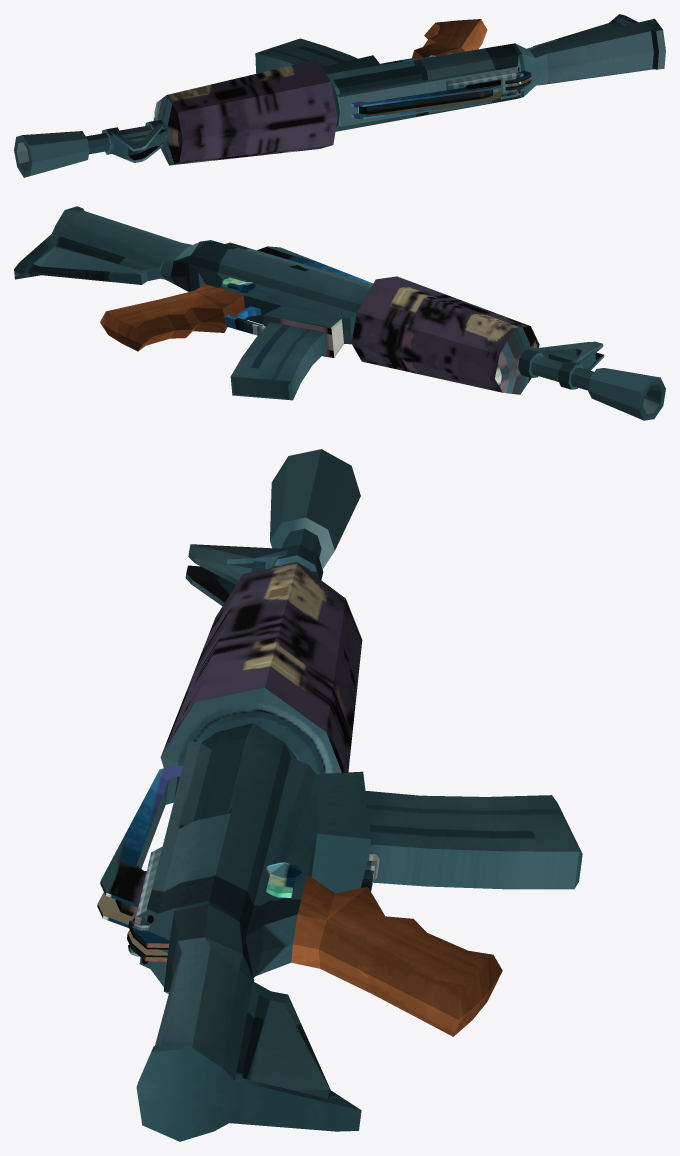
The model's file is Gun6.FBX.
3 views of the same model, one above another, from view 1: azimuth 30°, elevation 25°; view 2: azimuth 150°, elevation 25°; view 3: azimuth 270°, elevation 25° (orthographic). The views are drawn at different scales.
Visible parts, largest first — view 1: gun6; view 2: gun6; view 3: gun6.
Part boxes in pixels (left/top/right/bottom): gun6: left=14, top=14, right=665, bottom=177; gun6: left=14, top=206, right=665, bottom=420; gun6: left=97, top=449, right=582, bottom=1141.
Bounding box in the file's own units: 1.23 × 0.1644 × 0.4254.
